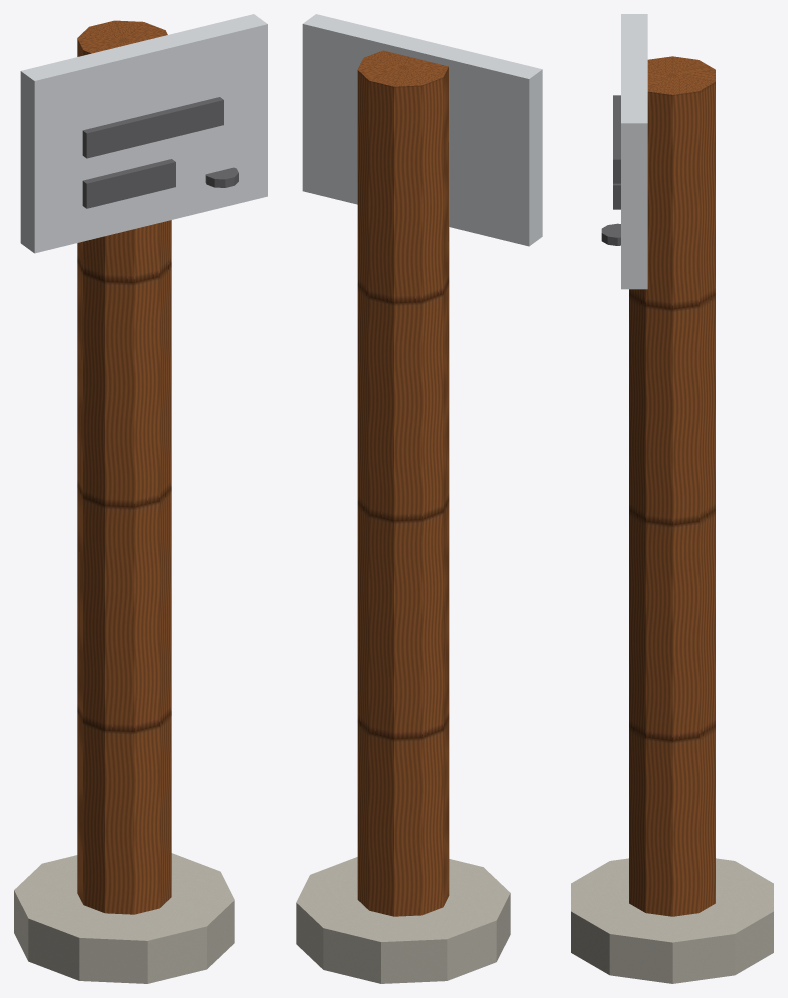
Rendered from row-end-marker.glb.
3 renders of one model, left to right at view 1: azimuth 30°, elevation 25°; view 2: azimuth 150°, elevation 25°; view 3: azimuth 270°, elevation 25°, orthographic. The views are drawn at different scales.
Parts seen in each view (by area): view 1: row-end-marker-timber, row-end-marker-steel, row-end-marker-stone, row-end-marker-dark; view 2: row-end-marker-timber, row-end-marker-steel, row-end-marker-stone; view 3: row-end-marker-timber, row-end-marker-stone, row-end-marker-steel, row-end-marker-dark.
Part boxes in pixels (x1=…): row-end-marker-timber: x1=77, y1=20, x2=171, y2=914; row-end-marker-steel: x1=20, y1=14, x2=267, y2=253; row-end-marker-stone: x1=14, y1=853, x2=234, y2=983; row-end-marker-dark: x1=82, y1=97, x2=238, y2=208; row-end-marker-timber: x1=357, y1=50, x2=449, y2=916; row-end-marker-steel: x1=302, y1=14, x2=542, y2=246; row-end-marker-stone: x1=296, y1=857, x2=510, y2=983; row-end-marker-timber: x1=629, y1=56, x2=715, y2=916; row-end-marker-stone: x1=571, y1=858, x2=773, y2=983; row-end-marker-steel: x1=621, y1=14, x2=647, y2=289; row-end-marker-dark: x1=601, y1=95, x2=620, y2=245.
Size of the model in its own units: 0.34 by 1.26 by 0.2663.
Materials: 4 (2 with a texture image).
